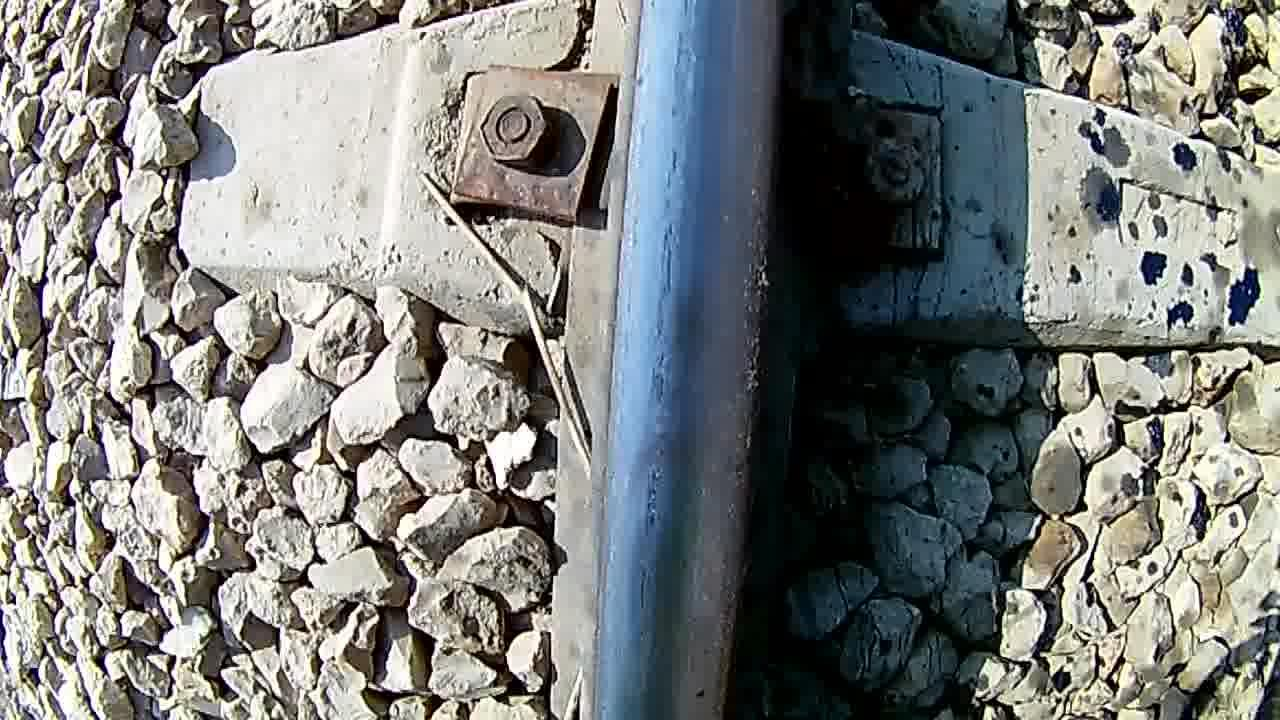crack: (595, 0, 771, 715)
